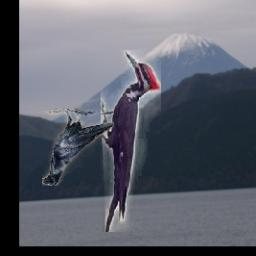Crow: (41, 109, 113, 186)
Woodpecker: (100, 51, 160, 233)
